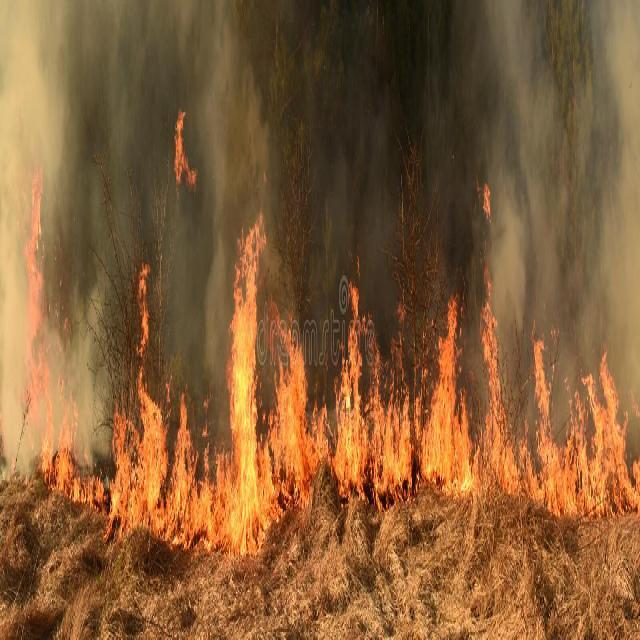Fire: (107, 304, 634, 540), (24, 158, 54, 507), (56, 384, 104, 520), (230, 221, 266, 297), (174, 100, 194, 188)
Smoke: (267, 0, 640, 297), (56, 2, 170, 244)
